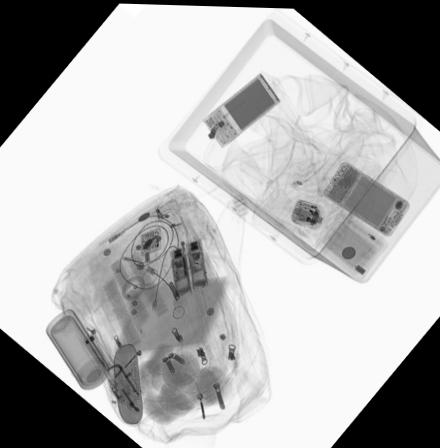Powerbank: (200, 69, 280, 146)
